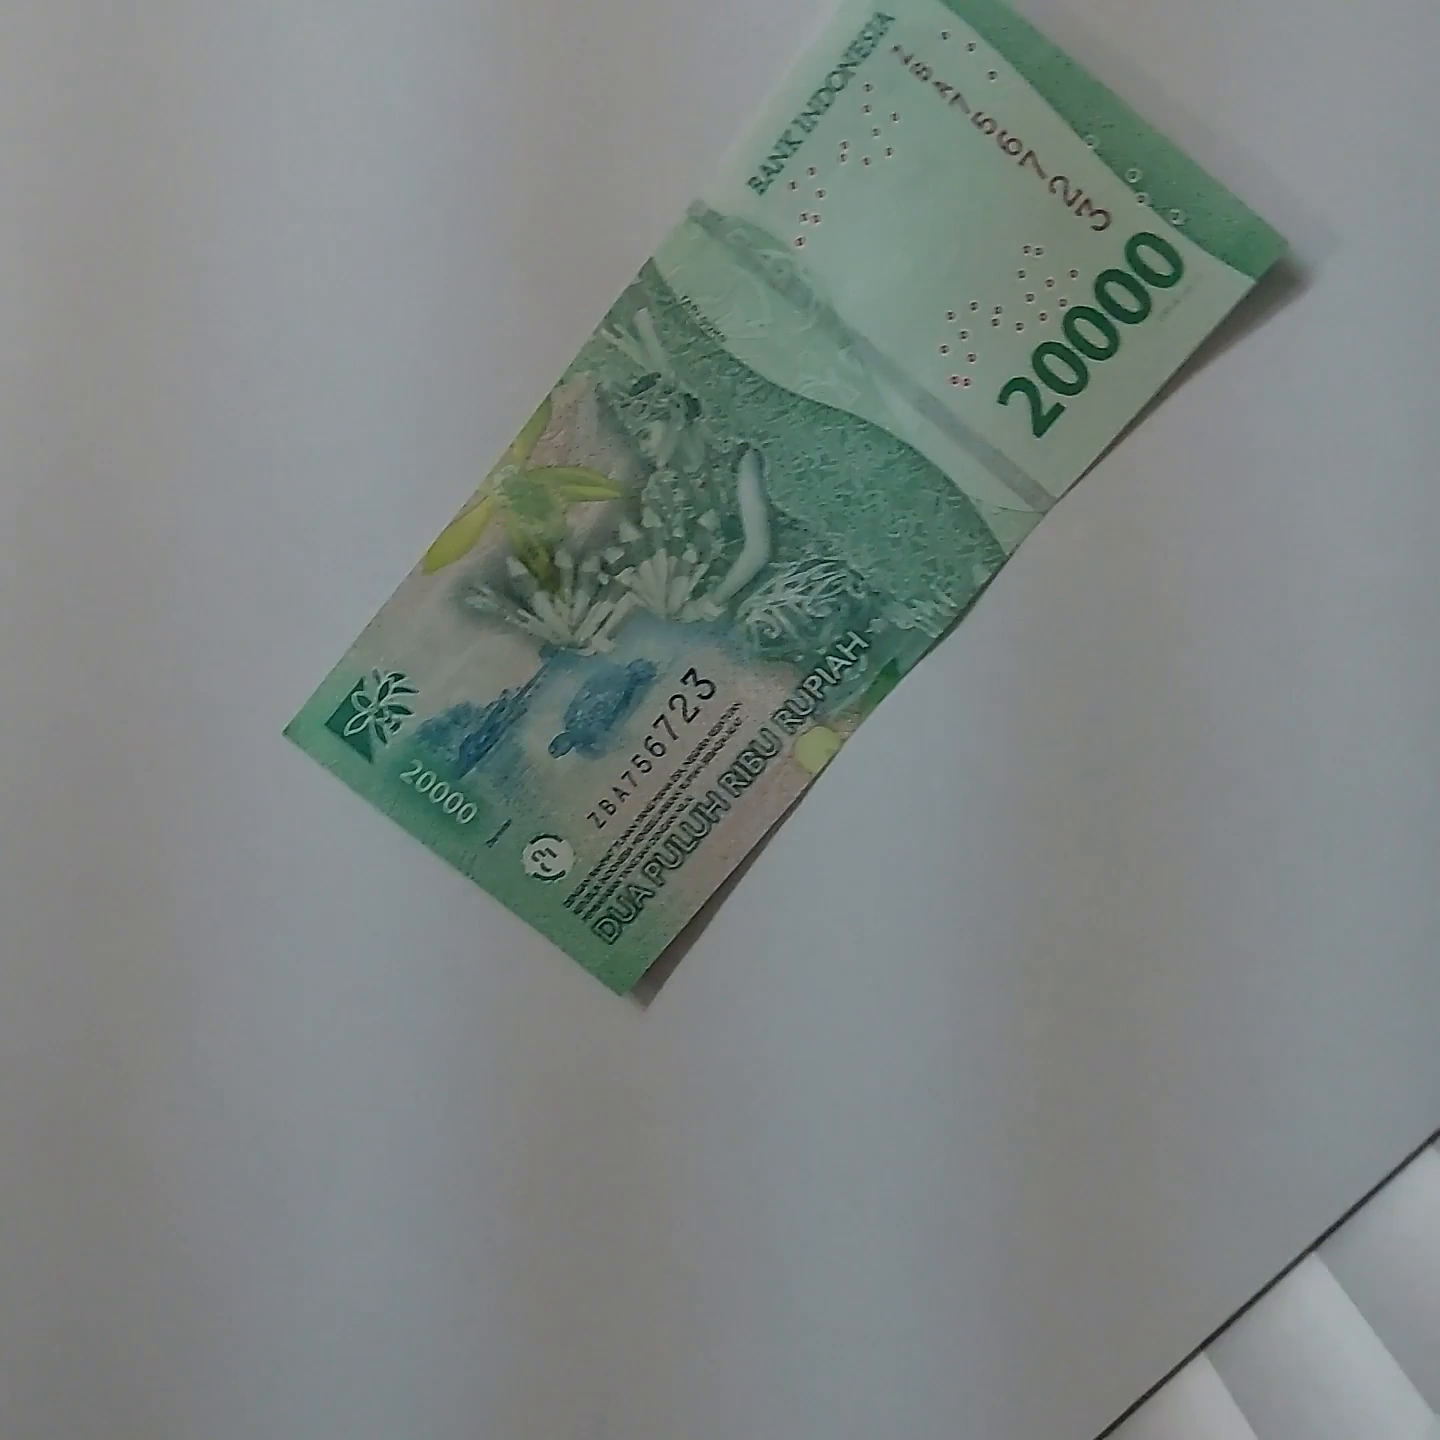20k: (198, 0, 1346, 1096)
